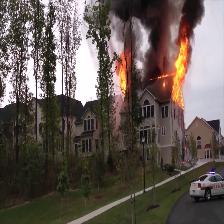fire: (174, 42, 190, 103)
smoke: (117, 3, 171, 73), (182, 4, 203, 31)
